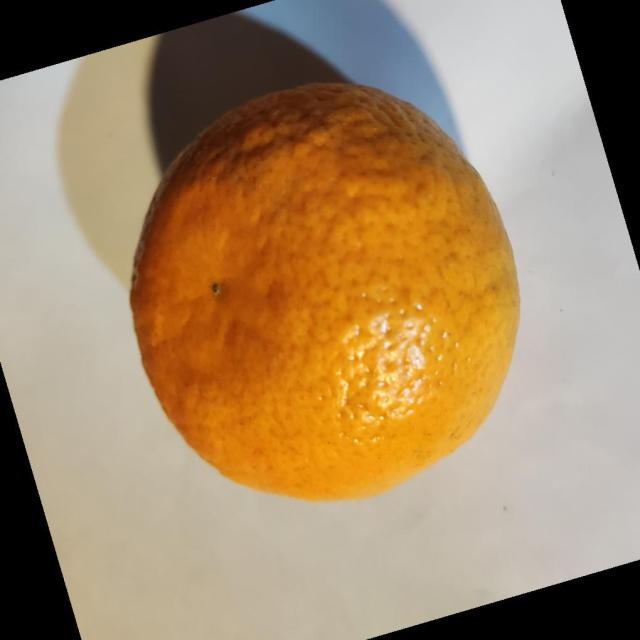agrume: (128, 80, 521, 502)
